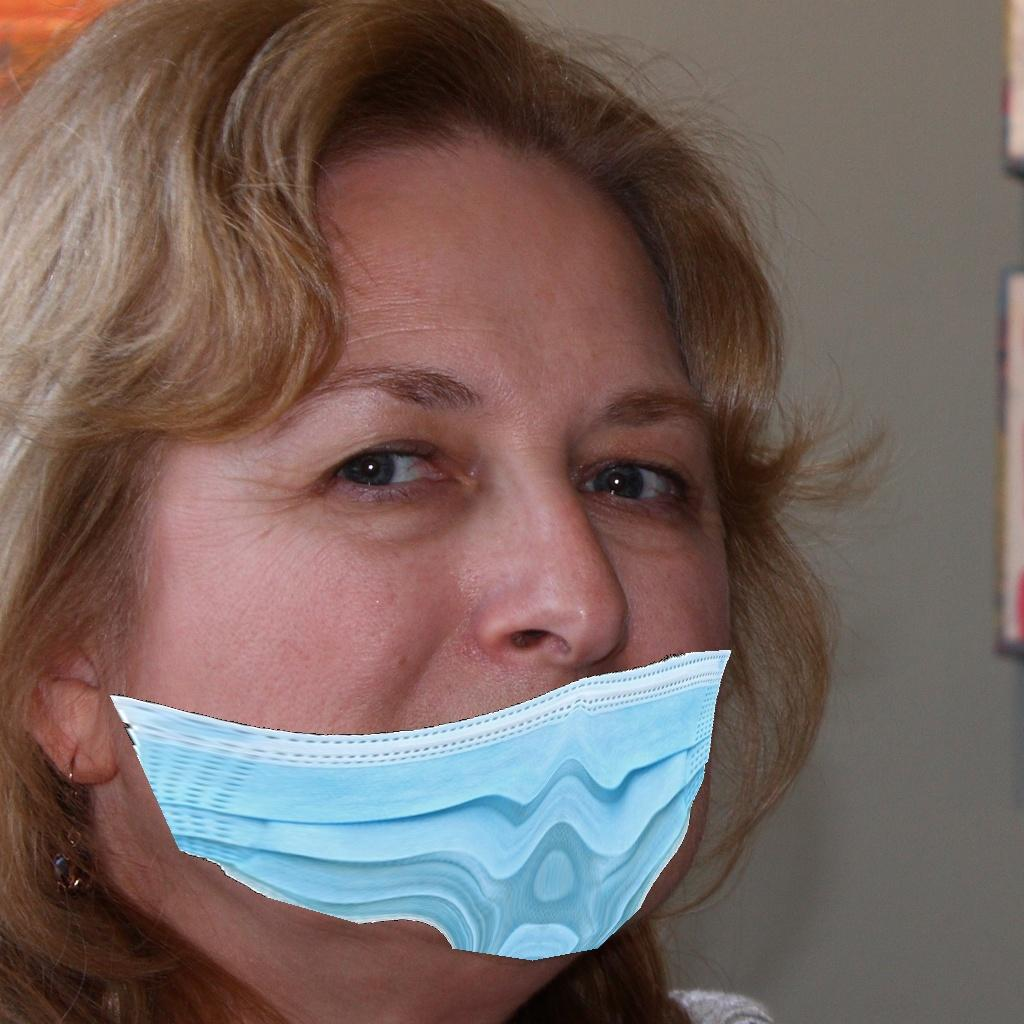Máscara Incorreta: (190, 258, 738, 967)
